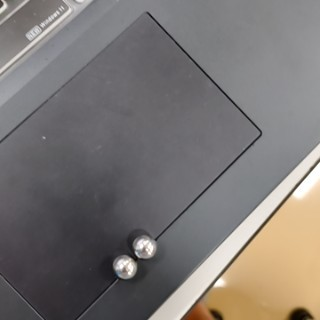ironball: (127, 223, 172, 261), (106, 248, 145, 288)
